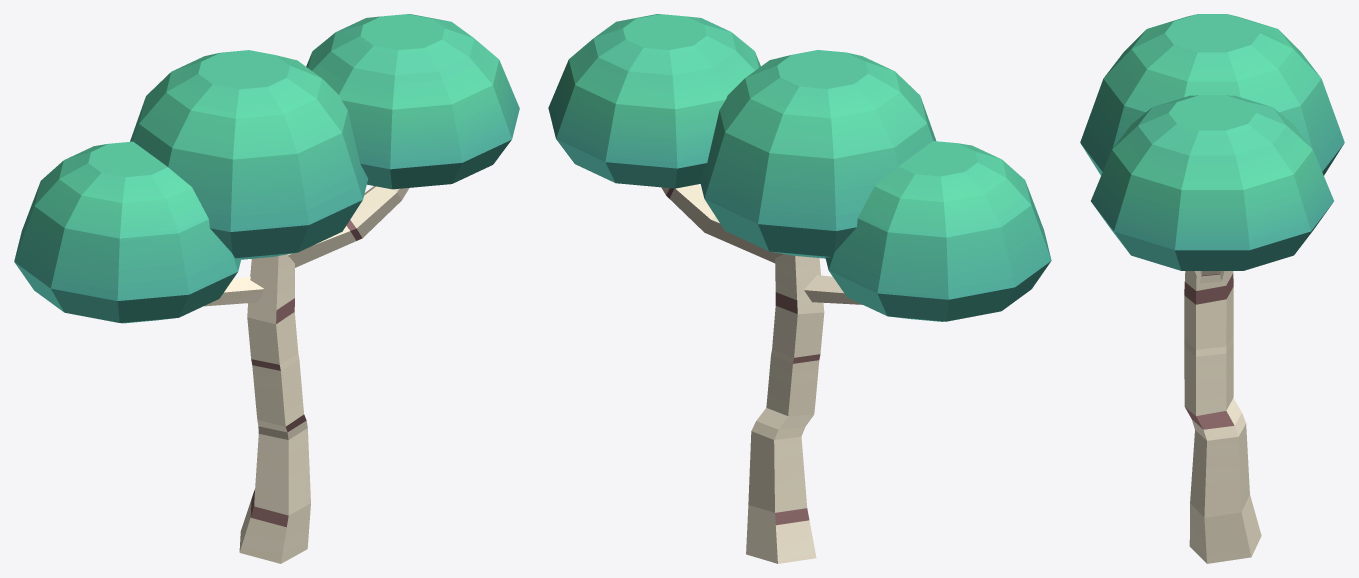
The model's file is small_tree_1.gltf.
3 views of the same model, side by side, from view 1: azimuth 30°, elevation 25°; view 2: azimuth 150°, elevation 25°; view 3: azimuth 270°, elevation 25° (orthographic). The views are drawn at different scales.
Visible parts, largest first — view 1: Object_12; view 2: Object_12; view 3: Object_12.
Boxes of the visible parts, x1,y1,x2,y2 form: Object_12: [14, 14, 519, 563]; Object_12: [548, 14, 1051, 563]; Object_12: [1080, 14, 1344, 563].
Bounding box in the file's own units: 9.7 × 9.73 × 4.66.
1 material, 1 textured.
